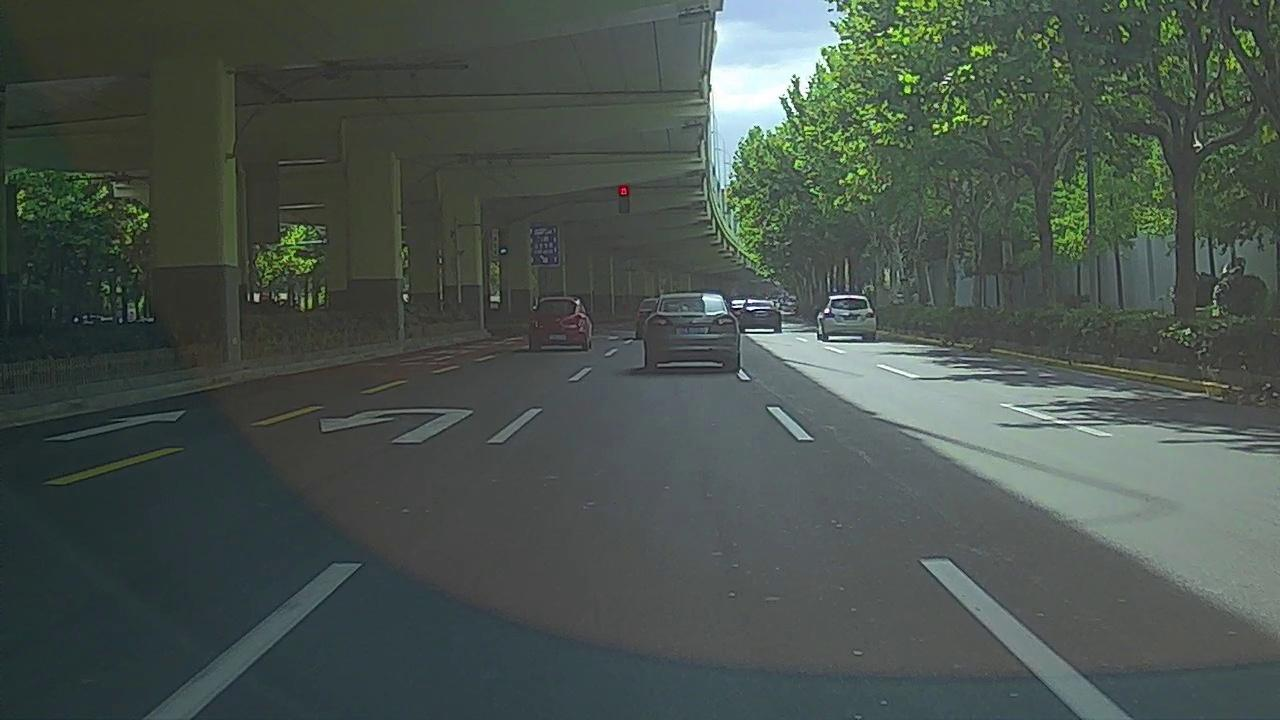traffic_light: (617, 184, 629, 214)
